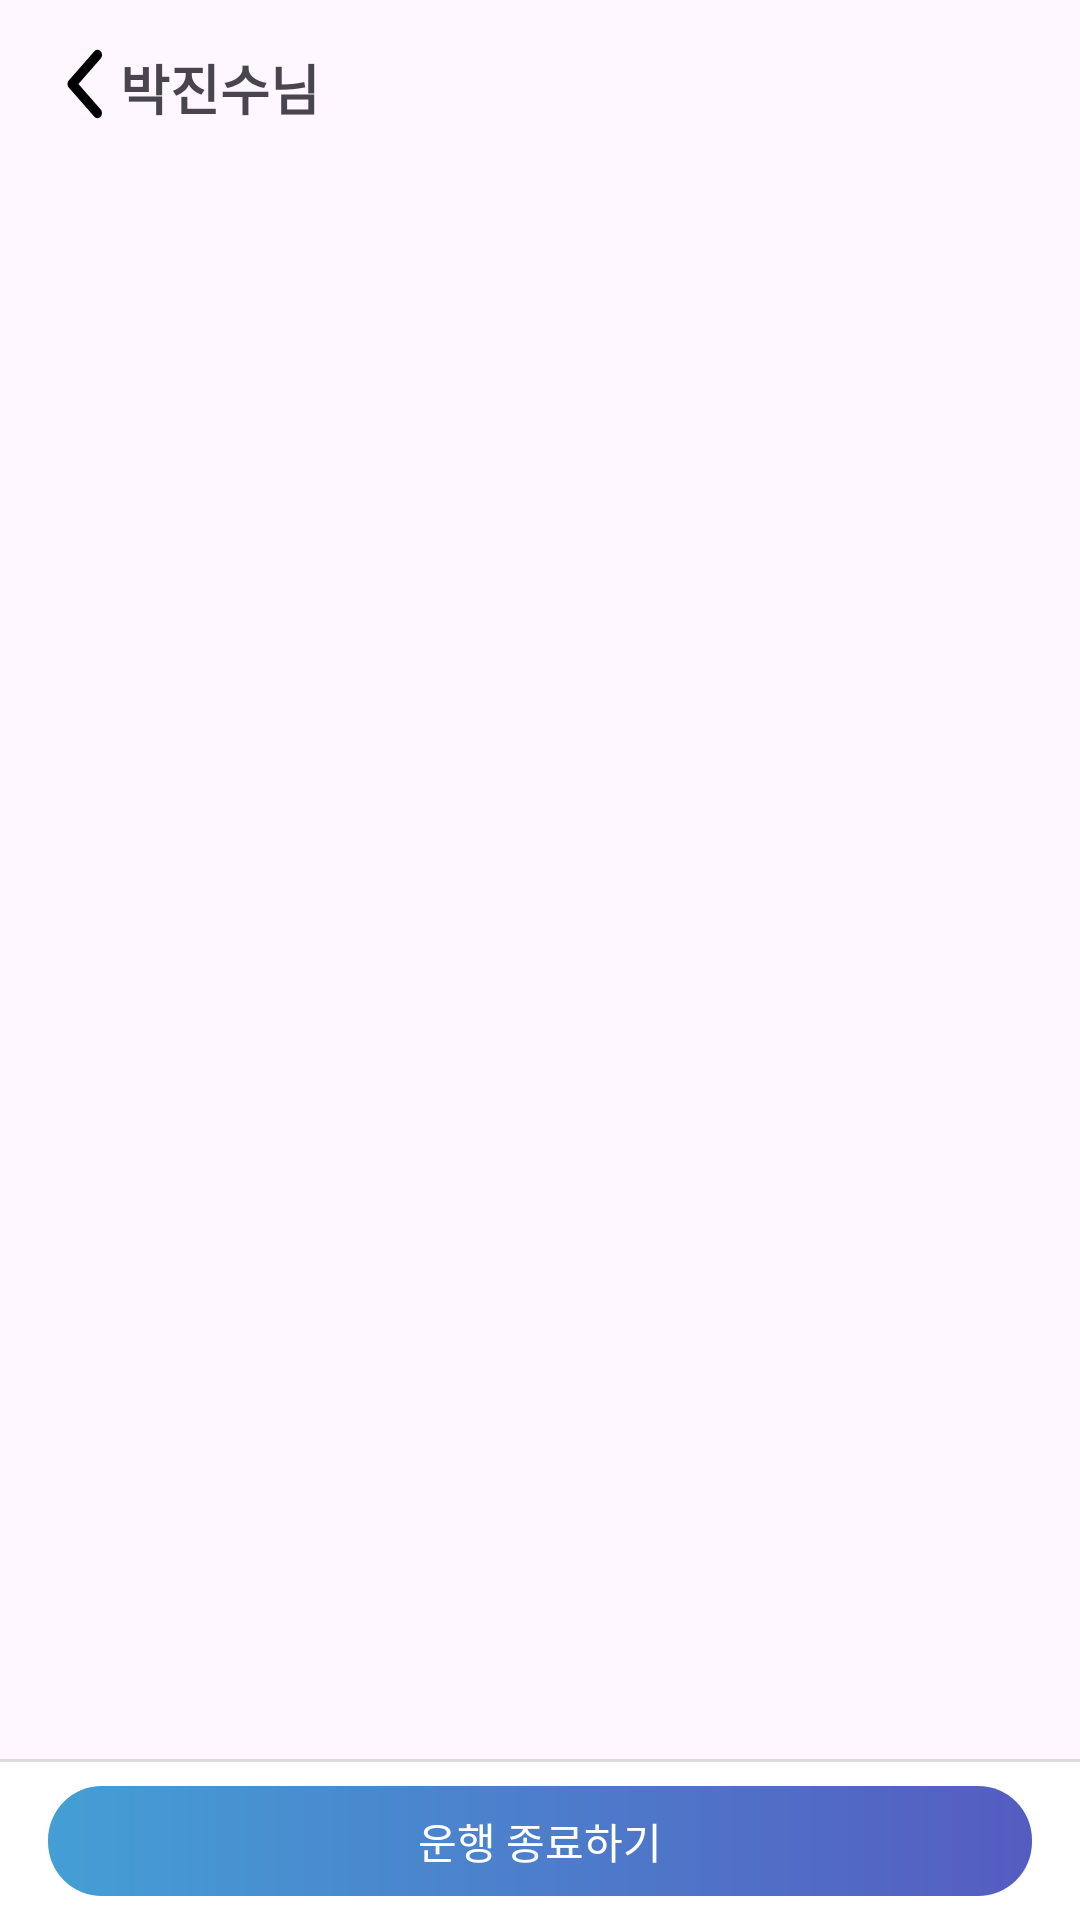

Where to tap for icons on this 1080*1920 app screen, as point (x, y):
back arrow: point (84, 84)
